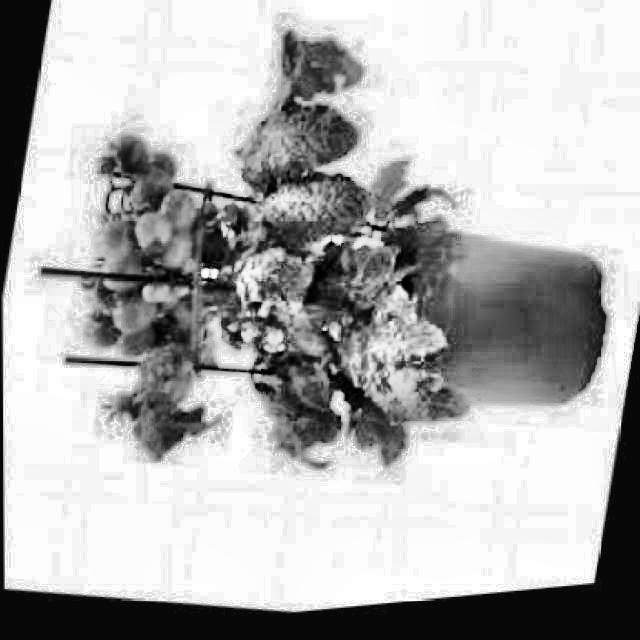plants: (52, 0, 638, 562)
